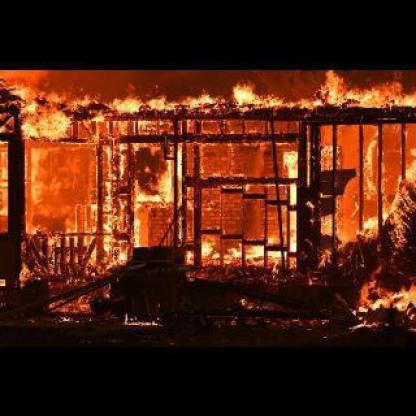fire: (1, 73, 415, 346)
